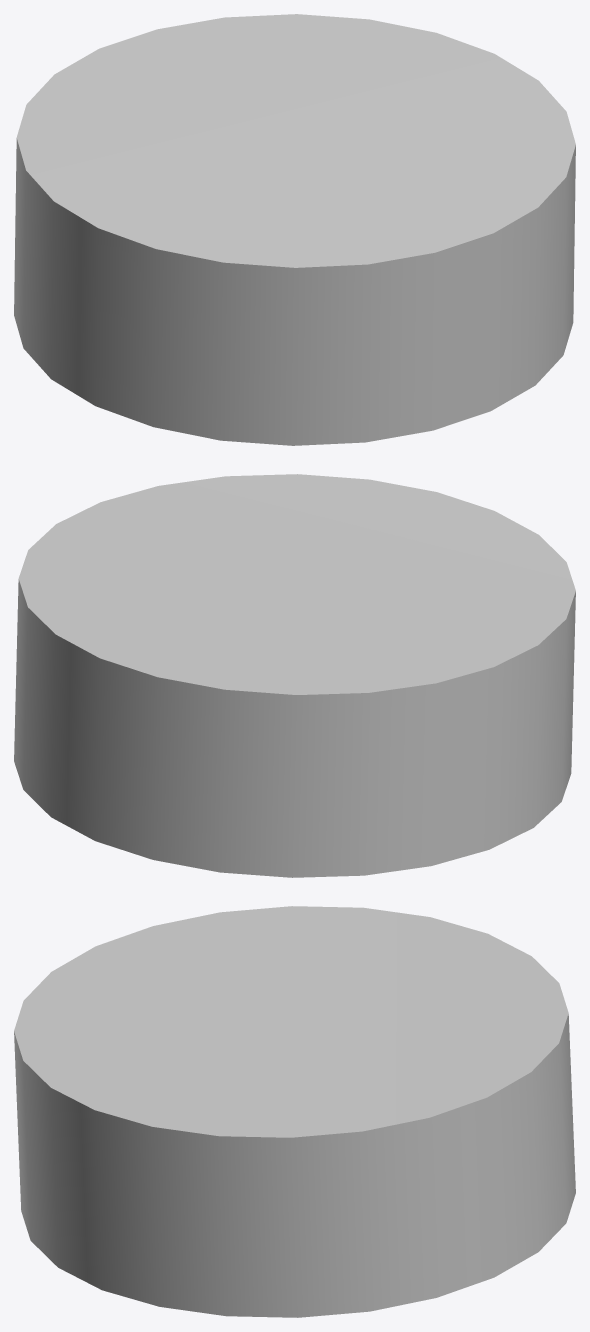
The model's file is original-14.obj.
3 renders of one model, top to bottom at view 1: azimuth 30°, elevation 25°; view 2: azimuth 150°, elevation 25°; view 3: azimuth 270°, elevation 25°, orthographic.
Visible parts, largest first — view 1: Group9/mesh27/mesh27-geometry#mesh27-geometry; view 2: Group9/mesh27/mesh27-geometry#mesh27-geometry; view 3: Group9/mesh27/mesh27-geometry#mesh27-geometry.
Boxes of the visible parts, x1,y1,x2,y2 form: Group9/mesh27/mesh27-geometry#mesh27-geometry: [14, 14, 575, 445]; Group9/mesh27/mesh27-geometry#mesh27-geometry: [14, 474, 575, 877]; Group9/mesh27/mesh27-geometry#mesh27-geometry: [14, 906, 575, 1317].
Bounding box in the file's own units: 0.00534 × 0.0021 × 0.00539.
